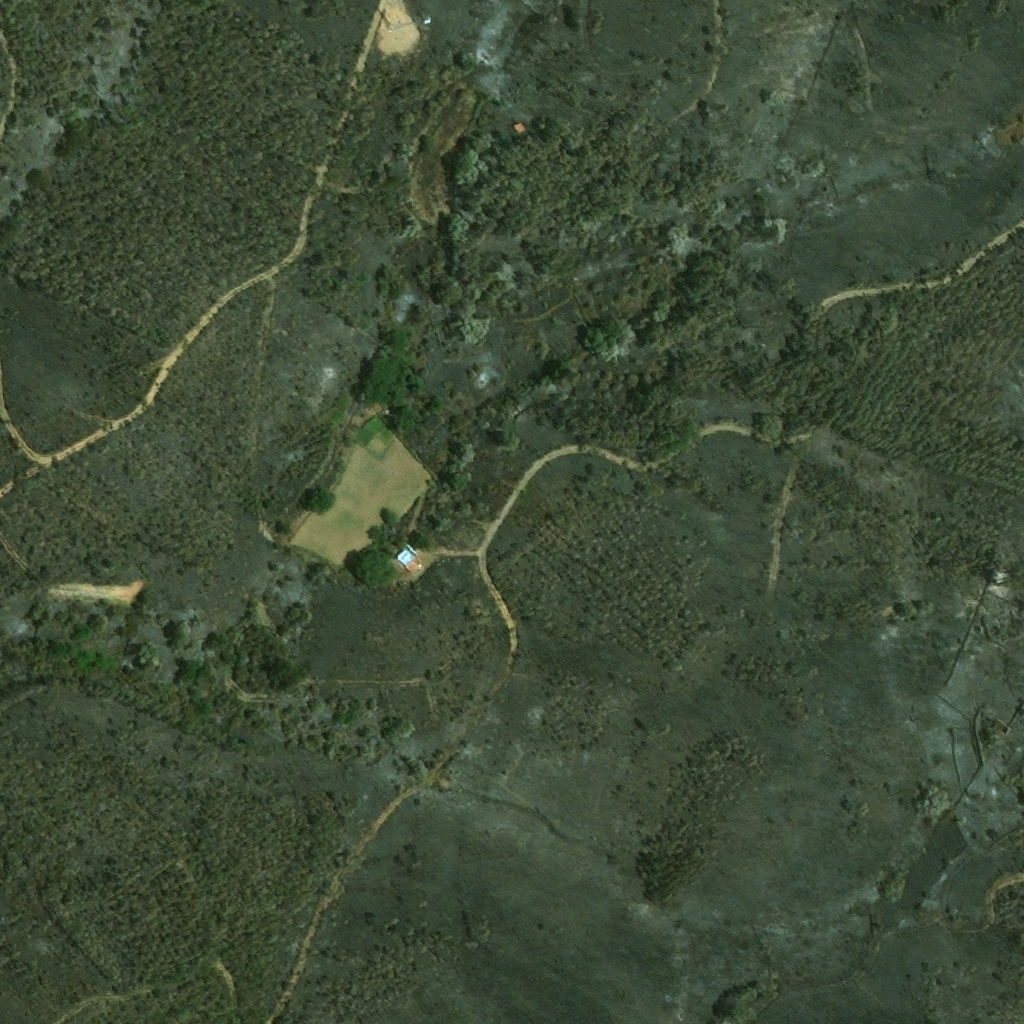0 no-damage: (396, 547, 416, 566), (406, 558, 422, 575)
4 un-classified: (380, 541, 400, 555)
